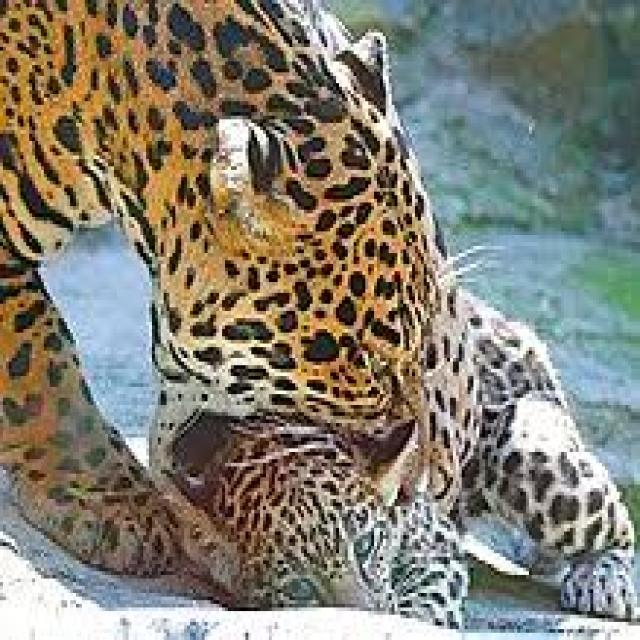Jaguar: (3, 4, 427, 466), (222, 398, 623, 618)
